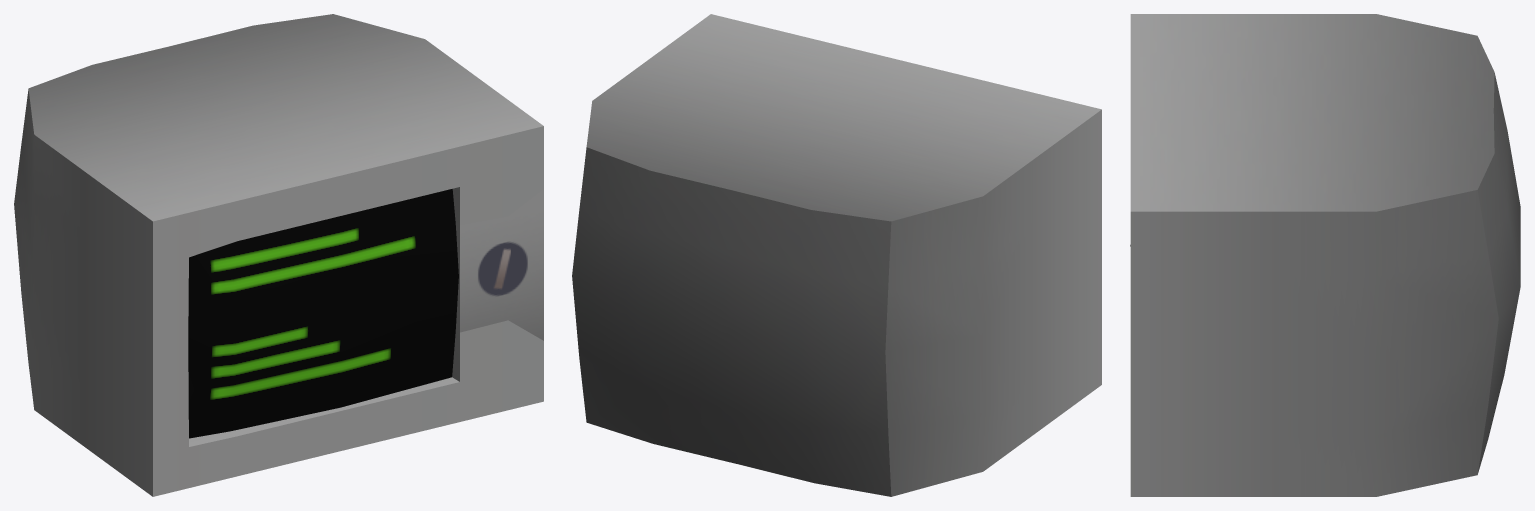
The model's file is Monitor_2.obj.
The picture shows the model from 3 angles, left to right: view 1: azimuth 30°, elevation 25°; view 2: azimuth 150°, elevation 25°; view 3: azimuth 270°, elevation 25°; orthographic projection. The views are drawn at different scales.
Visible parts, largest first — view 1: Monitor2; view 2: Monitor2; view 3: Monitor2.
Boxes of the visible parts, box(x1,y1,x2,y2) form: Monitor2: box(14, 14, 543, 496); Monitor2: box(572, 14, 1101, 496); Monitor2: box(1130, 14, 1520, 496).
Bounding box in the file's own units: 27.92 × 18.8 × 23.29.
Materials: 1 (1 with a texture image).
